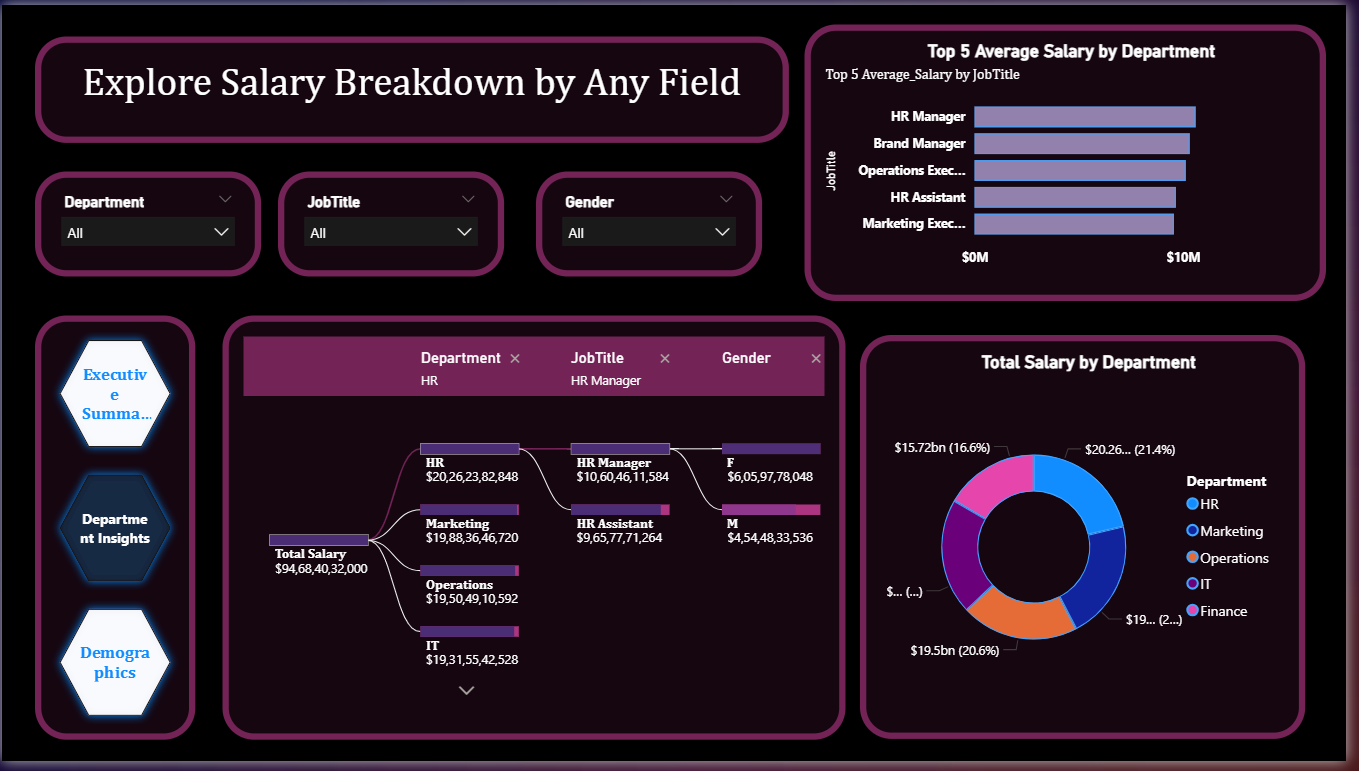

What the dashboard file says about the page in this screenshot:
{"tool":"powerbi","page":{"name":"Department Insights","canvas":[1280,720],"ordinal":1},"visuals":[{"type":"textbox","box":[31.8,30.3,717.7,101.5],"z":0},{"type":"clusteredBarChart","title":"Top 5 Average Salary by Department","fields":{"Y":["Sum(Employee_Salary_Dataset.Average_Salary)"],"Category":["Employee_Salary_Dataset.JobTitle"]},"box":[764.7,18.2,496.7,263.5],"z":1000},{"type":"donutChart","title":"Total Salary by Department","fields":{"Category":["Employee_Salary_Dataset.Department"],"Y":["Sum(Employee_Salary_Dataset.Total_Salary)"]},"box":[817.7,315,424,384.6],"z":2000},{"type":"pageNavigator","box":[31.8,295.3,152.9,404.3],"z":3000},{"type":"slicer","fields":{"Values":["Employee_Salary_Dataset.JobTitle"]},"box":[263.5,159,215,100],"z":4000},{"type":"slicer","fields":{"Values":["Employee_Salary_Dataset.Department"]},"box":[31.8,159,215,100],"z":5000},{"type":"decompositionTreeVisual","fields":{"Analyze":["Sum(Employee_Salary_Dataset.Total_Salary)"],"ExplainBy":["Employee_Salary_Dataset.Department","Employee_Salary_Dataset.JobTitle","Employee_Salary_Dataset.Gender"]},"box":[210.5,295.3,593.6,404.3],"z":6000},{"type":"slicer","fields":{"Values":["Employee_Salary_Dataset.Gender"]},"box":[508.8,159,215,99.9],"z":7000}]}

Visuals, with their boxes in screenshot pixels (x1, y1, x2, y2), scaled from the page's 1280x720 canvas onto the 1359x771 screenshot:
textbox: (x1=34, y1=32, x2=796, y2=141)
"Top 5 Average Salary by Department" clusteredBarChart: (x1=812, y1=19, x2=1339, y2=302)
"Total Salary by Department" donutChart: (x1=868, y1=337, x2=1318, y2=749)
pageNavigator: (x1=34, y1=316, x2=196, y2=749)
slicer - Employee_Salary_Dataset.JobTitle: (x1=280, y1=170, x2=508, y2=277)
slicer - Employee_Salary_Dataset.Department: (x1=34, y1=170, x2=262, y2=277)
decompositionTreeVisual - Sum(Employee_Salary_Dataset.Total_Salary) x Employee_Salary_Dataset.Department: (x1=223, y1=316, x2=854, y2=749)
slicer - Employee_Salary_Dataset.Gender: (x1=540, y1=170, x2=768, y2=277)
